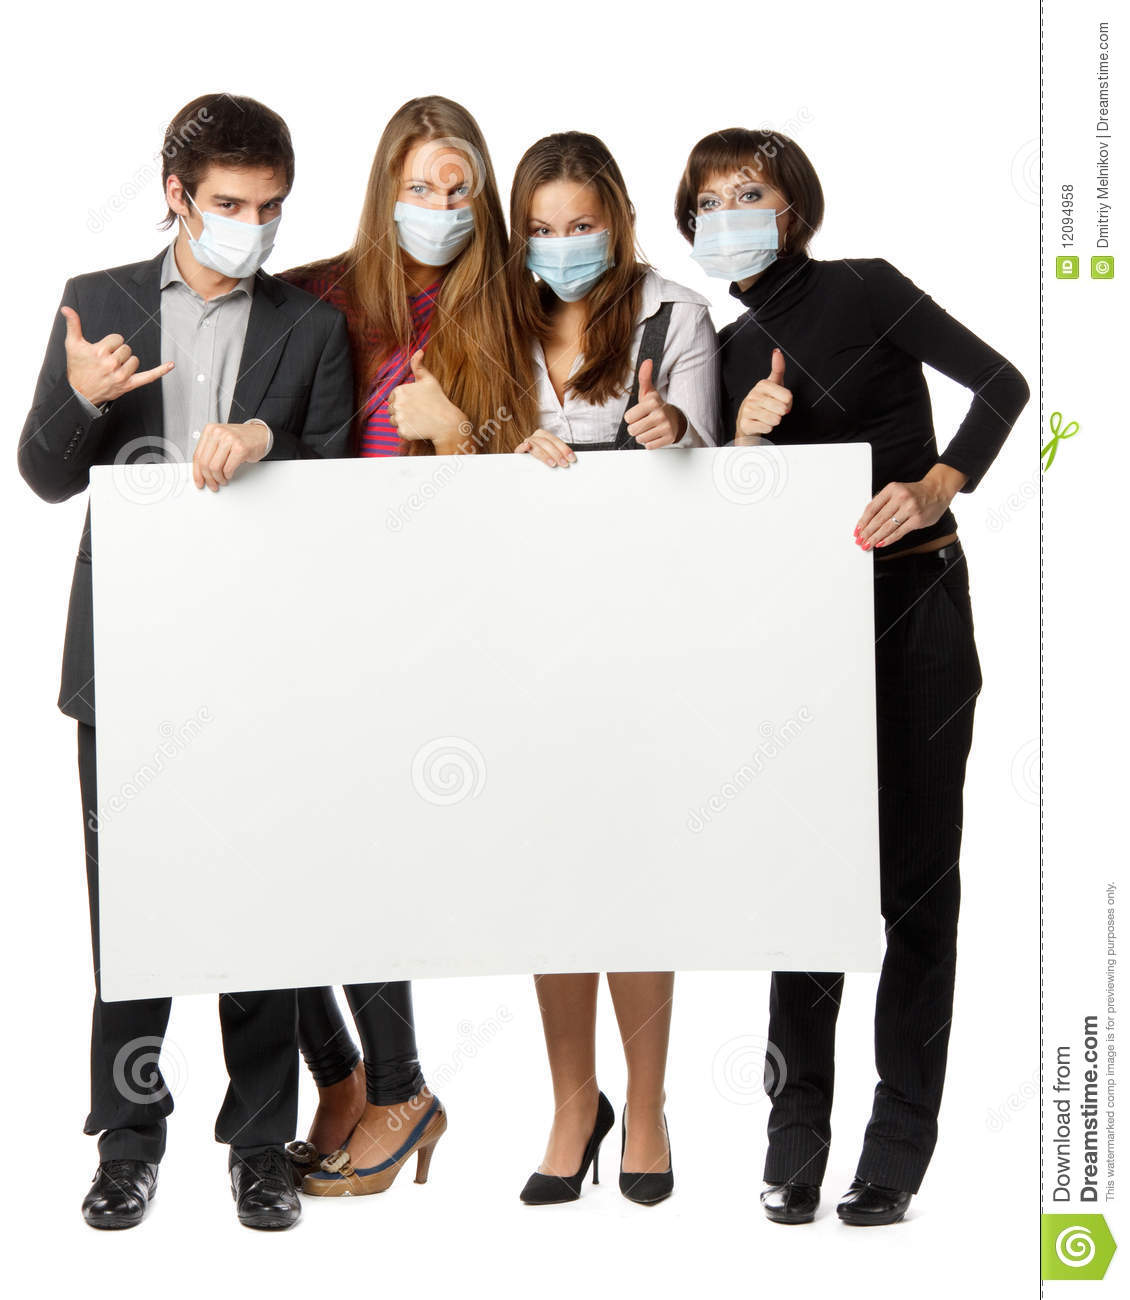mask: (187, 213, 284, 282), (691, 210, 780, 279), (527, 234, 613, 304), (394, 198, 474, 269)
